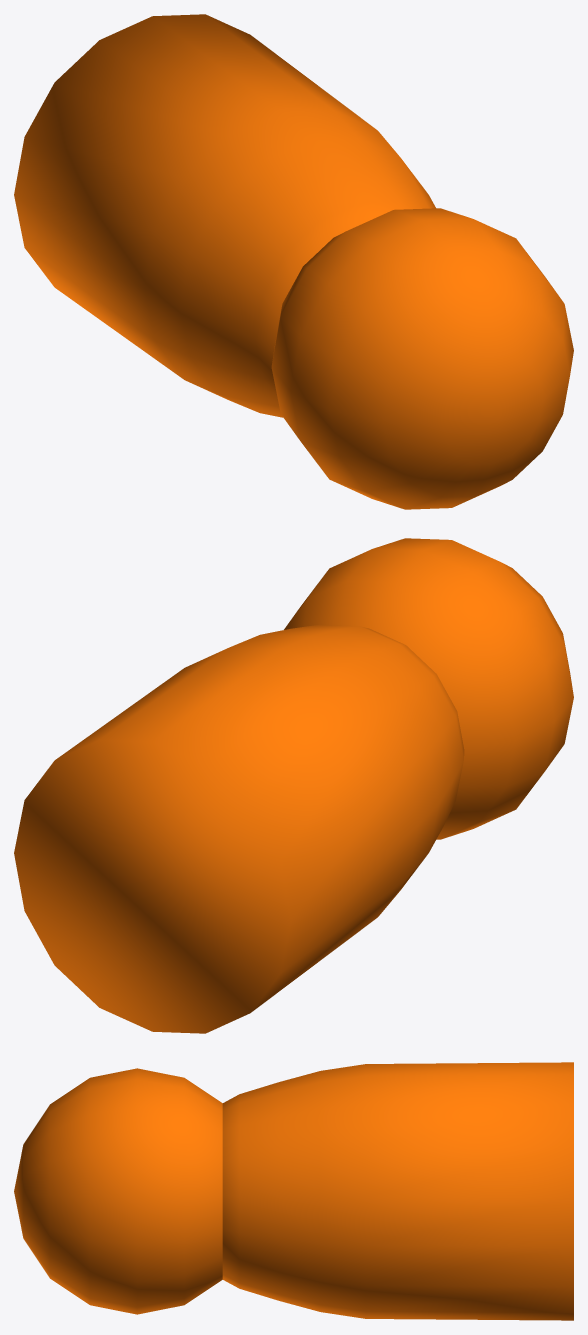
The model's file is starting_unit_orange.glb.
The picture shows the model from 3 angles, top to bottom: view 1: azimuth 30°, elevation 25°; view 2: azimuth 150°, elevation 25°; view 3: azimuth 270°, elevation 25°; orthographic projection. The views are drawn at different scales.
Parts seen in each view (by area): view 1: starting_unit_orange; view 2: starting_unit_orange; view 3: starting_unit_orange.
Boxes of the visible parts, box(x1,y1,x2,y2) form: starting_unit_orange: box(14, 14, 573, 509); starting_unit_orange: box(14, 538, 573, 1033); starting_unit_orange: box(14, 1062, 573, 1320).
Size of the model in its own units: 1 by 1 by 2.17.
